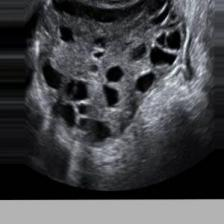pcos: (35, 3, 196, 152)
